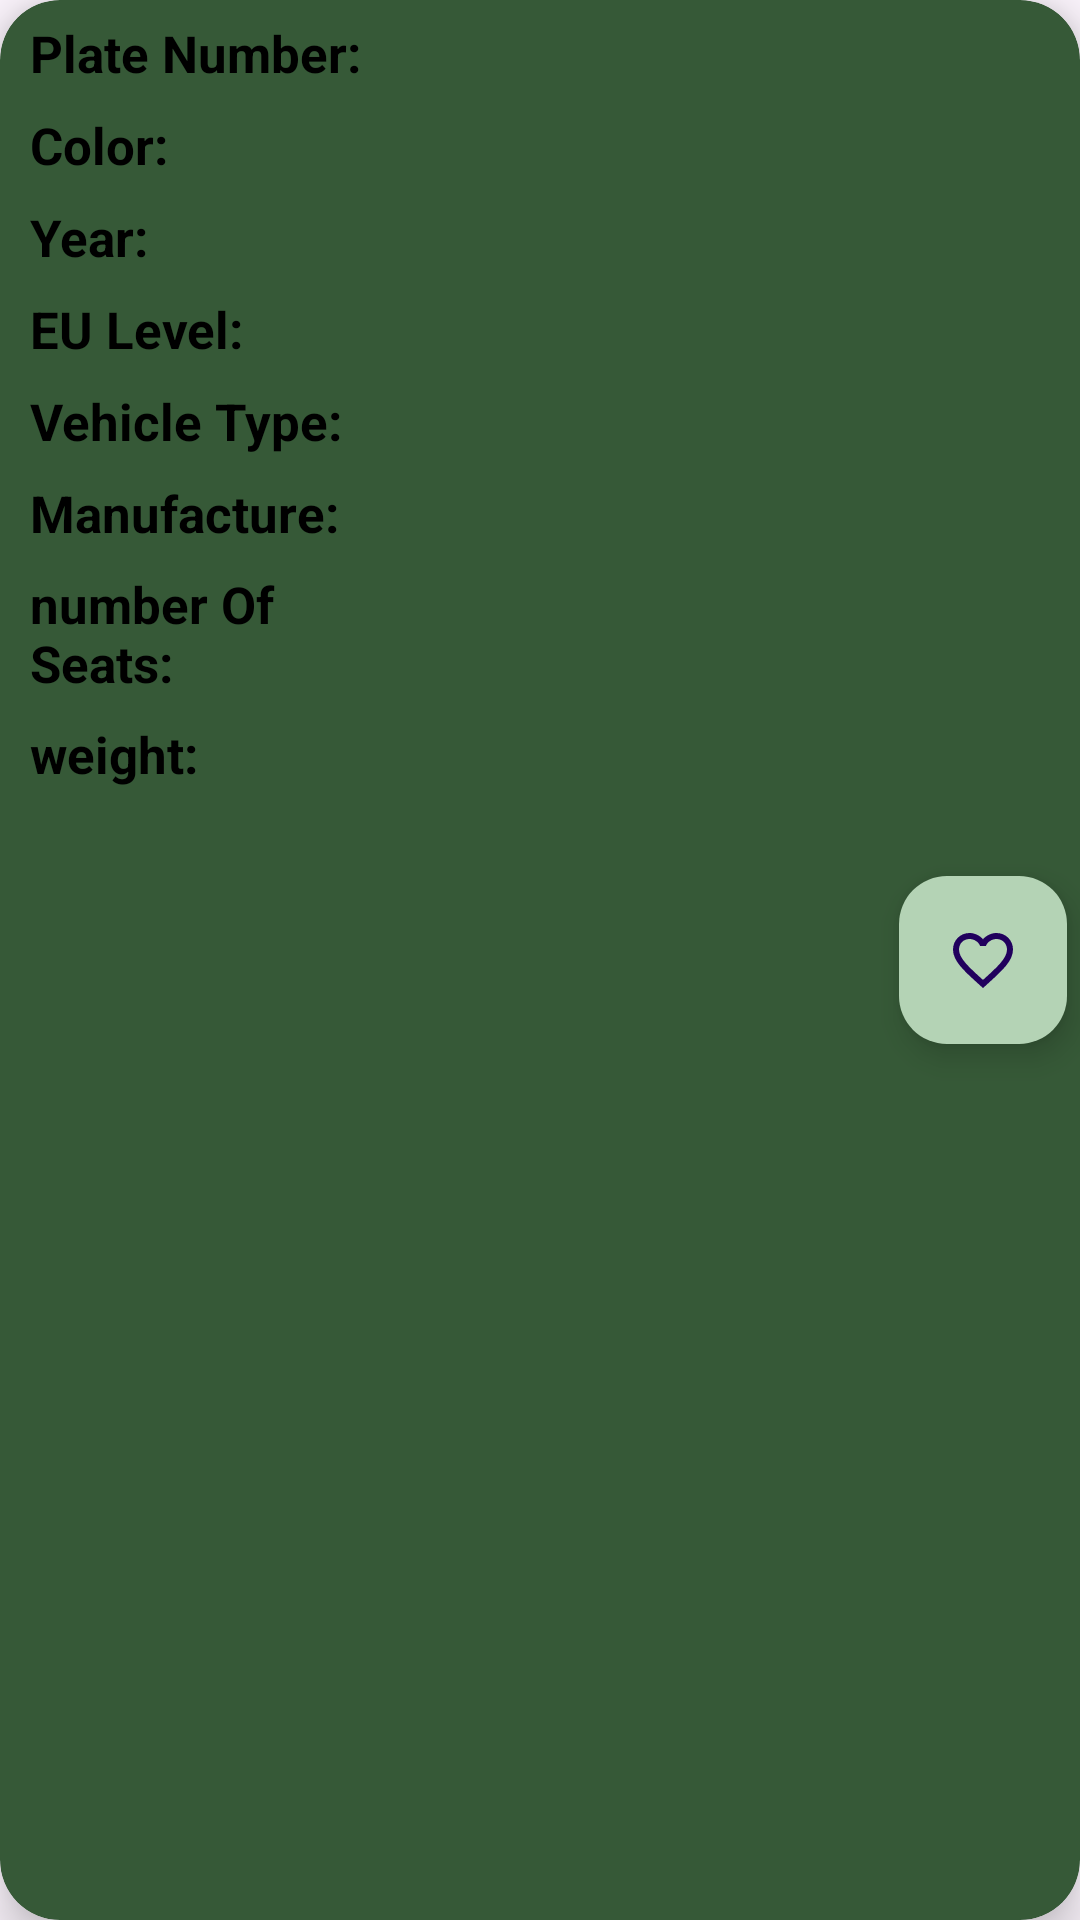

Where icons sit on this 1080*1920 app screen, as (x1, y1, x2, y2):
heart border: (899, 876, 1067, 1044)
